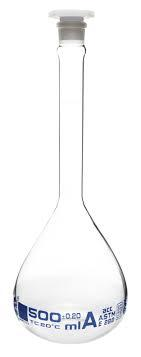Volumetric flask: (5, 10, 136, 340)
